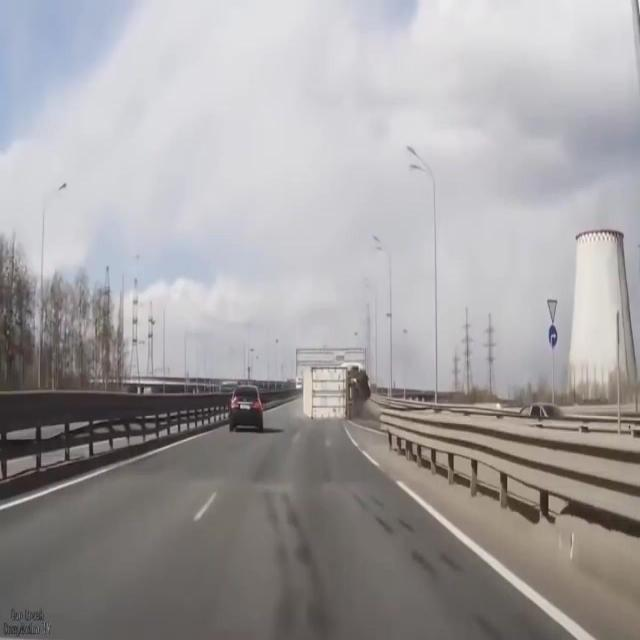severe: (298, 354, 372, 426)
